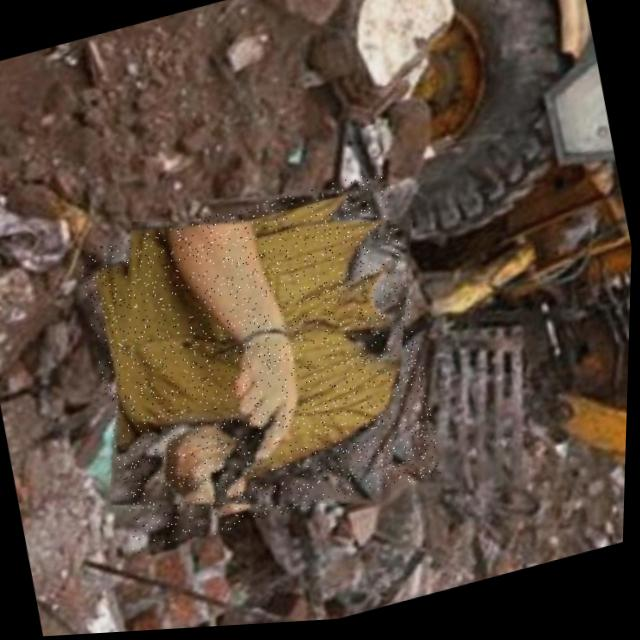Person in Rubble: (70, 170, 452, 561)
